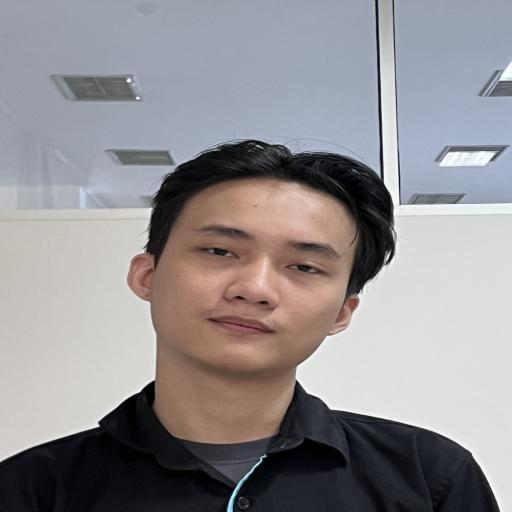wajah: (0, 87, 464, 480)
